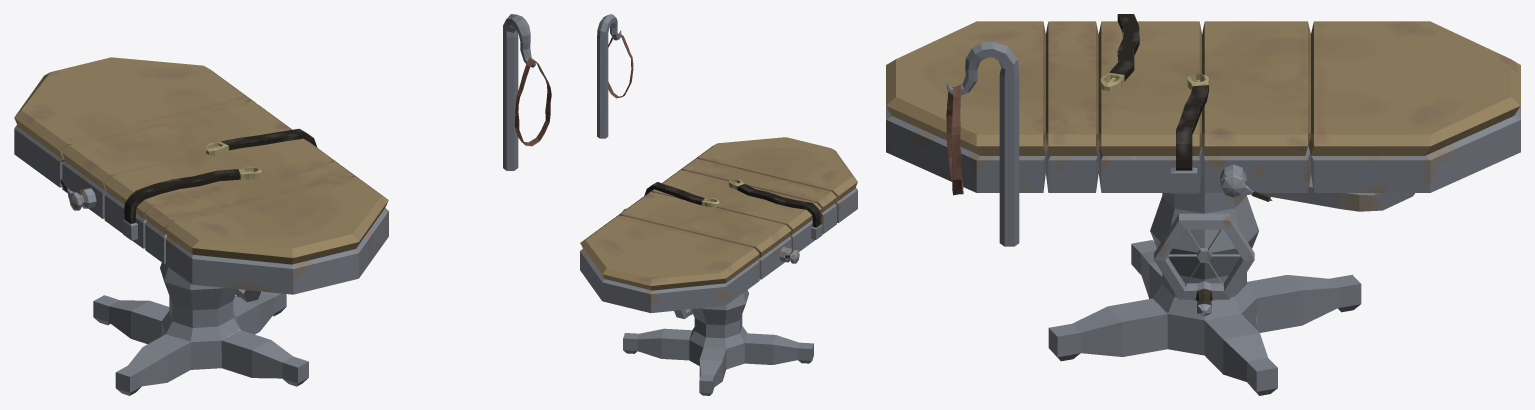
The model's file is OpTable.fbx.
3 renders of one model, left to right at view 1: azimuth 30°, elevation 25°; view 2: azimuth 150°, elevation 25°; view 3: azimuth 270°, elevation 25°, orthographic. The views are drawn at different scales.
Parts seen in each view (by area): view 1: OpTable, StirrupThang, Belts, Additions; view 2: OpTable, StirrupThang, Belts, Additions; view 3: OpTable, StirrupThang, Additions, Belts.
Boxes of the visible parts, left/top/right/bottom form: OpTable: left=14, top=57, right=388, bottom=395; StirrupThang: left=503, top=14, right=551, bottom=170; Belts: left=122, top=128, right=317, bottom=240; Additions: left=60, top=178, right=261, bottom=302; OpTable: left=580, top=137, right=857, bottom=395; StirrupThang: left=597, top=14, right=633, bottom=138; Belts: left=644, top=179, right=822, bottom=239; Additions: left=622, top=208, right=799, bottom=318; OpTable: left=886, top=21, right=1520, bottom=395; StirrupThang: left=946, top=41, right=1019, bottom=246; Additions: left=1154, top=164, right=1272, bottom=316; Belts: left=1100, top=14, right=1209, bottom=193.
Bounding box in the file's own units: 212 × 188 × 247.
Materials: 4 (4 with a texture image).
